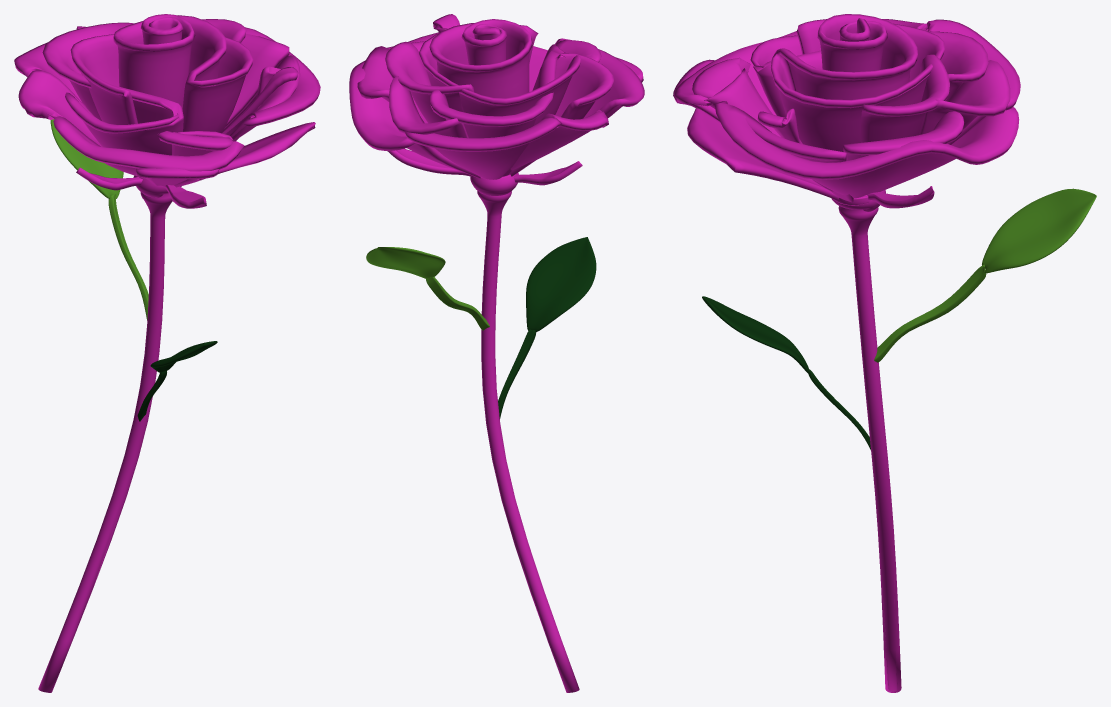
The model's file is Rose.obj.
3 views of the same model, side by side, from view 1: azimuth 30°, elevation 25°; view 2: azimuth 150°, elevation 25°; view 3: azimuth 270°, elevation 25° (orthographic). The views are drawn at different scales.
Visible parts, largest first — view 1: Simple_GP_Layer_Mesh, Cube, Cube.001; view 2: Simple_GP_Layer_Mesh, Cube.001, Cube; view 3: Simple_GP_Layer_Mesh, Cube, Cube.001.
Boxes of the visible parts, x1,y1,x2,y2 form: Simple_GP_Layer_Mesh: (14, 14, 320, 692); Cube: (50, 119, 148, 320); Cube.001: (137, 341, 217, 421); Simple_GP_Layer_Mesh: (349, 14, 644, 692); Cube.001: (498, 237, 596, 418); Cube: (366, 247, 489, 330); Simple_GP_Layer_Mesh: (673, 14, 1020, 692); Cube: (874, 188, 1096, 362); Cube.001: (702, 296, 870, 449).
Bounding box in the file's own units: 5.53 × 13.12 × 6.97.
